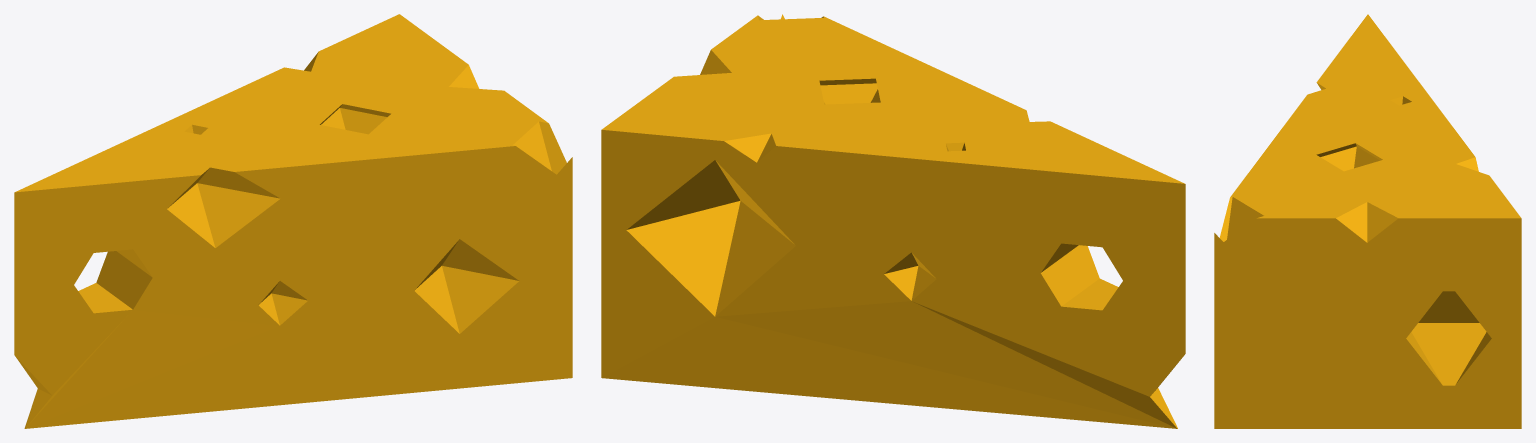
File: Cheese.FBX
The picture shows the model from 3 angles, left to right: view 1: azimuth 30°, elevation 25°; view 2: azimuth 150°, elevation 25°; view 3: azimuth 270°, elevation 25°; orthographic projection. The views are drawn at different scales.
Visible parts, largest first — view 1: cheese; view 2: cheese; view 3: cheese.
Boxes of the visible parts, box(x1,y1,x2,y2) form: cheese: box(14, 14, 572, 428); cheese: box(601, 14, 1185, 428); cheese: box(1214, 14, 1521, 428).
Bounding box in the file's own units: 70.86 × 34.07 × 45.03.
